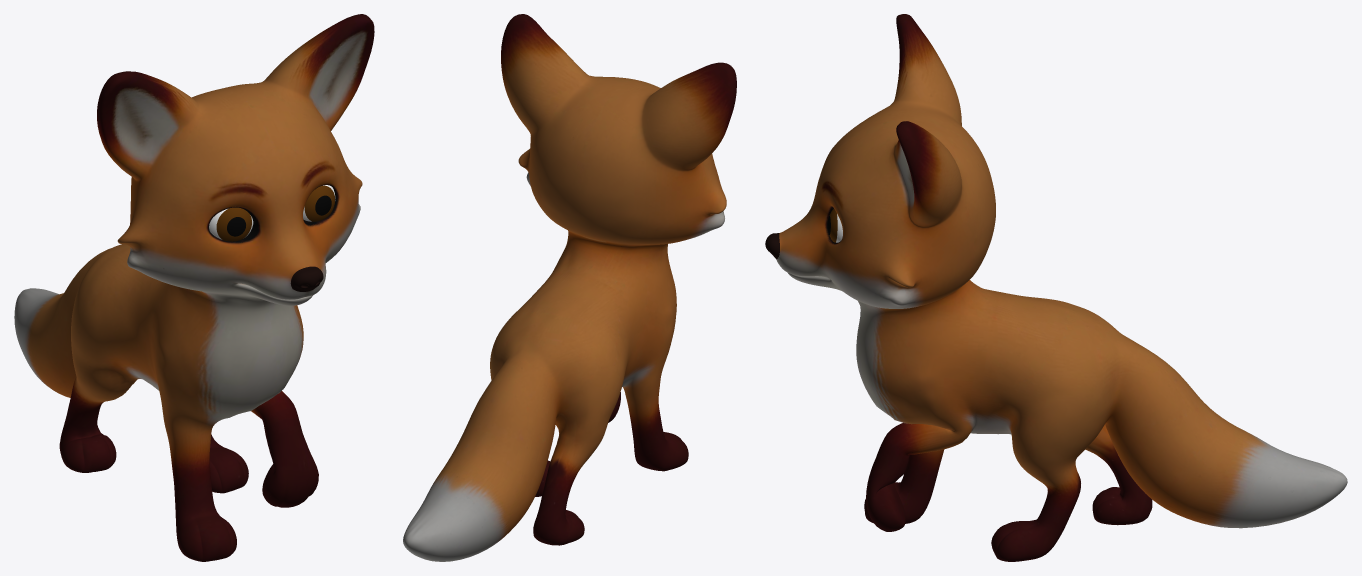
Rendered from Zorro.fbx.
The picture shows the model from 3 angles, left to right: view 1: azimuth 30°, elevation 25°; view 2: azimuth 150°, elevation 25°; view 3: azimuth 270°, elevation 25°; orthographic projection. The views are drawn at different scales.
Parts seen in each view (by area): view 1: Plane, Sphere; view 2: Plane; view 3: Plane.
Boxes of the visible parts, left/top/right/bottom form: Plane: left=14, top=14, right=374, bottom=561; Sphere: left=209, top=185, right=335, bottom=241; Plane: left=403, top=14, right=736, bottom=561; Plane: left=765, top=14, right=1347, bottom=561.
Size of the model in its own units: 0.5176 by 0.8965 by 1.01.
Materials: 5 (1 with a texture image).
